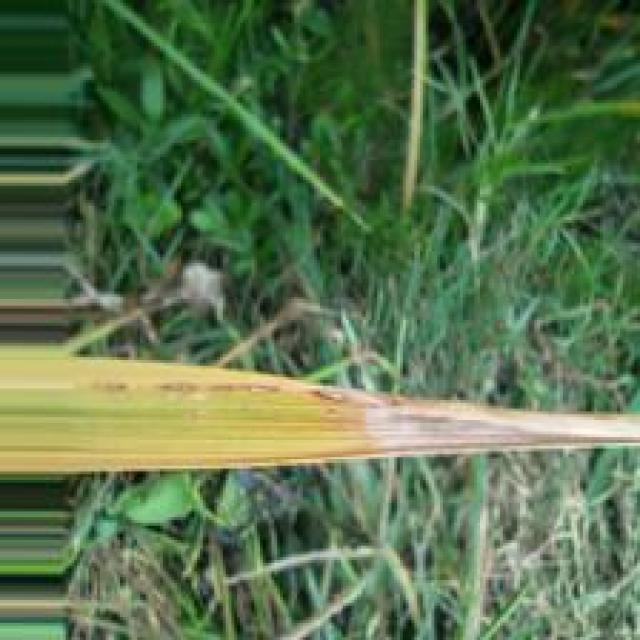Narrow_Brown_Leaf_Spot: (6, 355, 640, 470)
